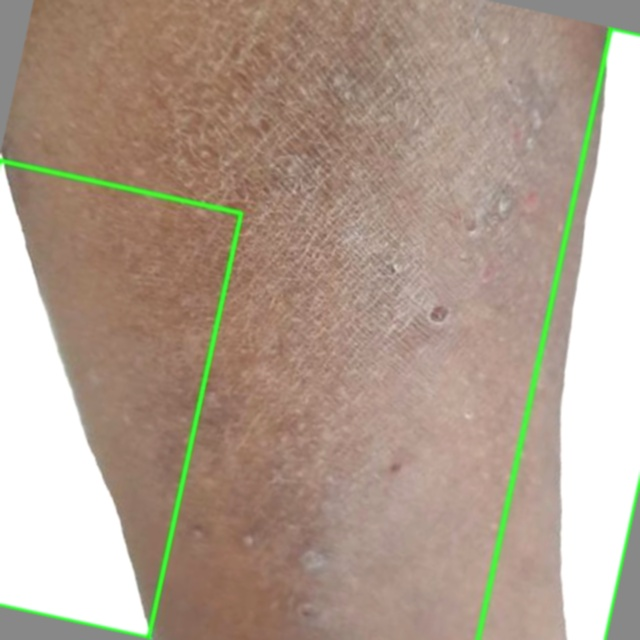Contact Dermatitis: (0, 160, 241, 637), (478, 28, 639, 639)
